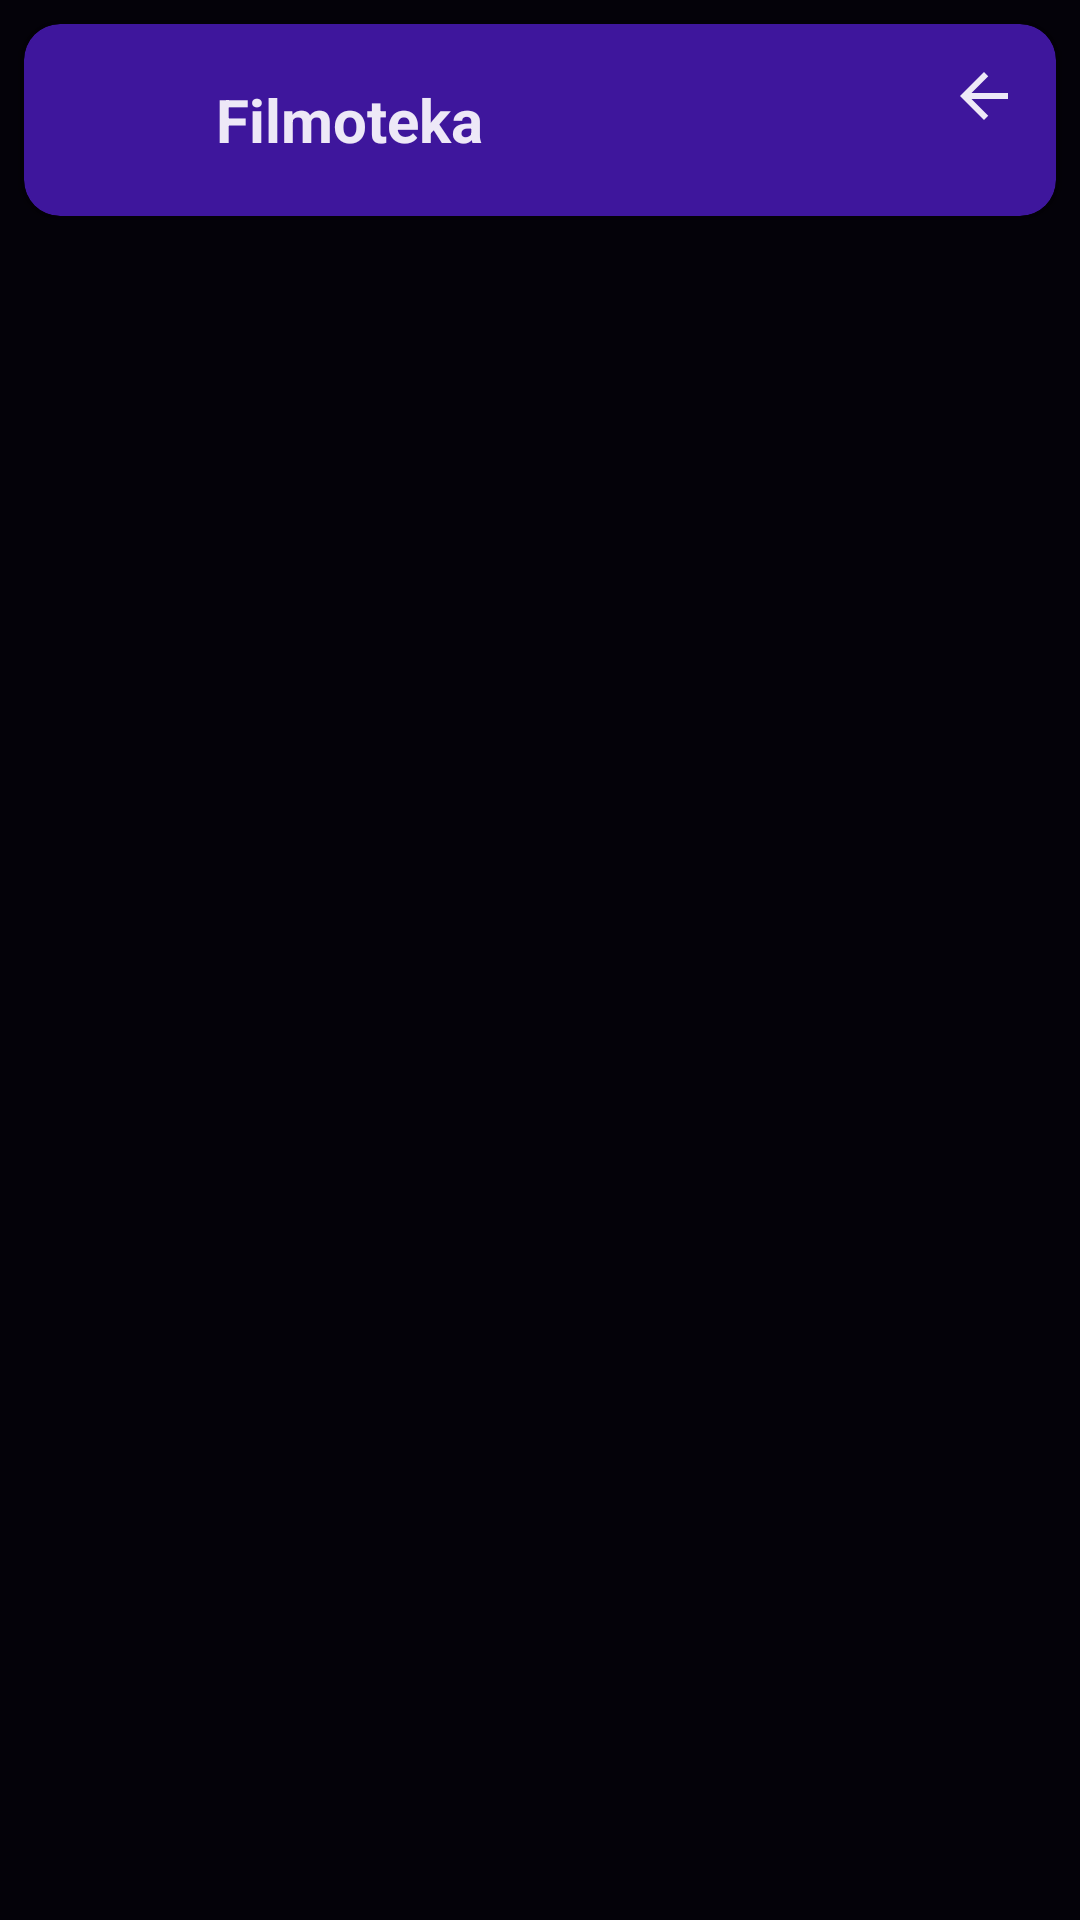

Screen size 1080px x 1920px. Icon name, then its center in pixels as (x,y):
back: (984,96)
